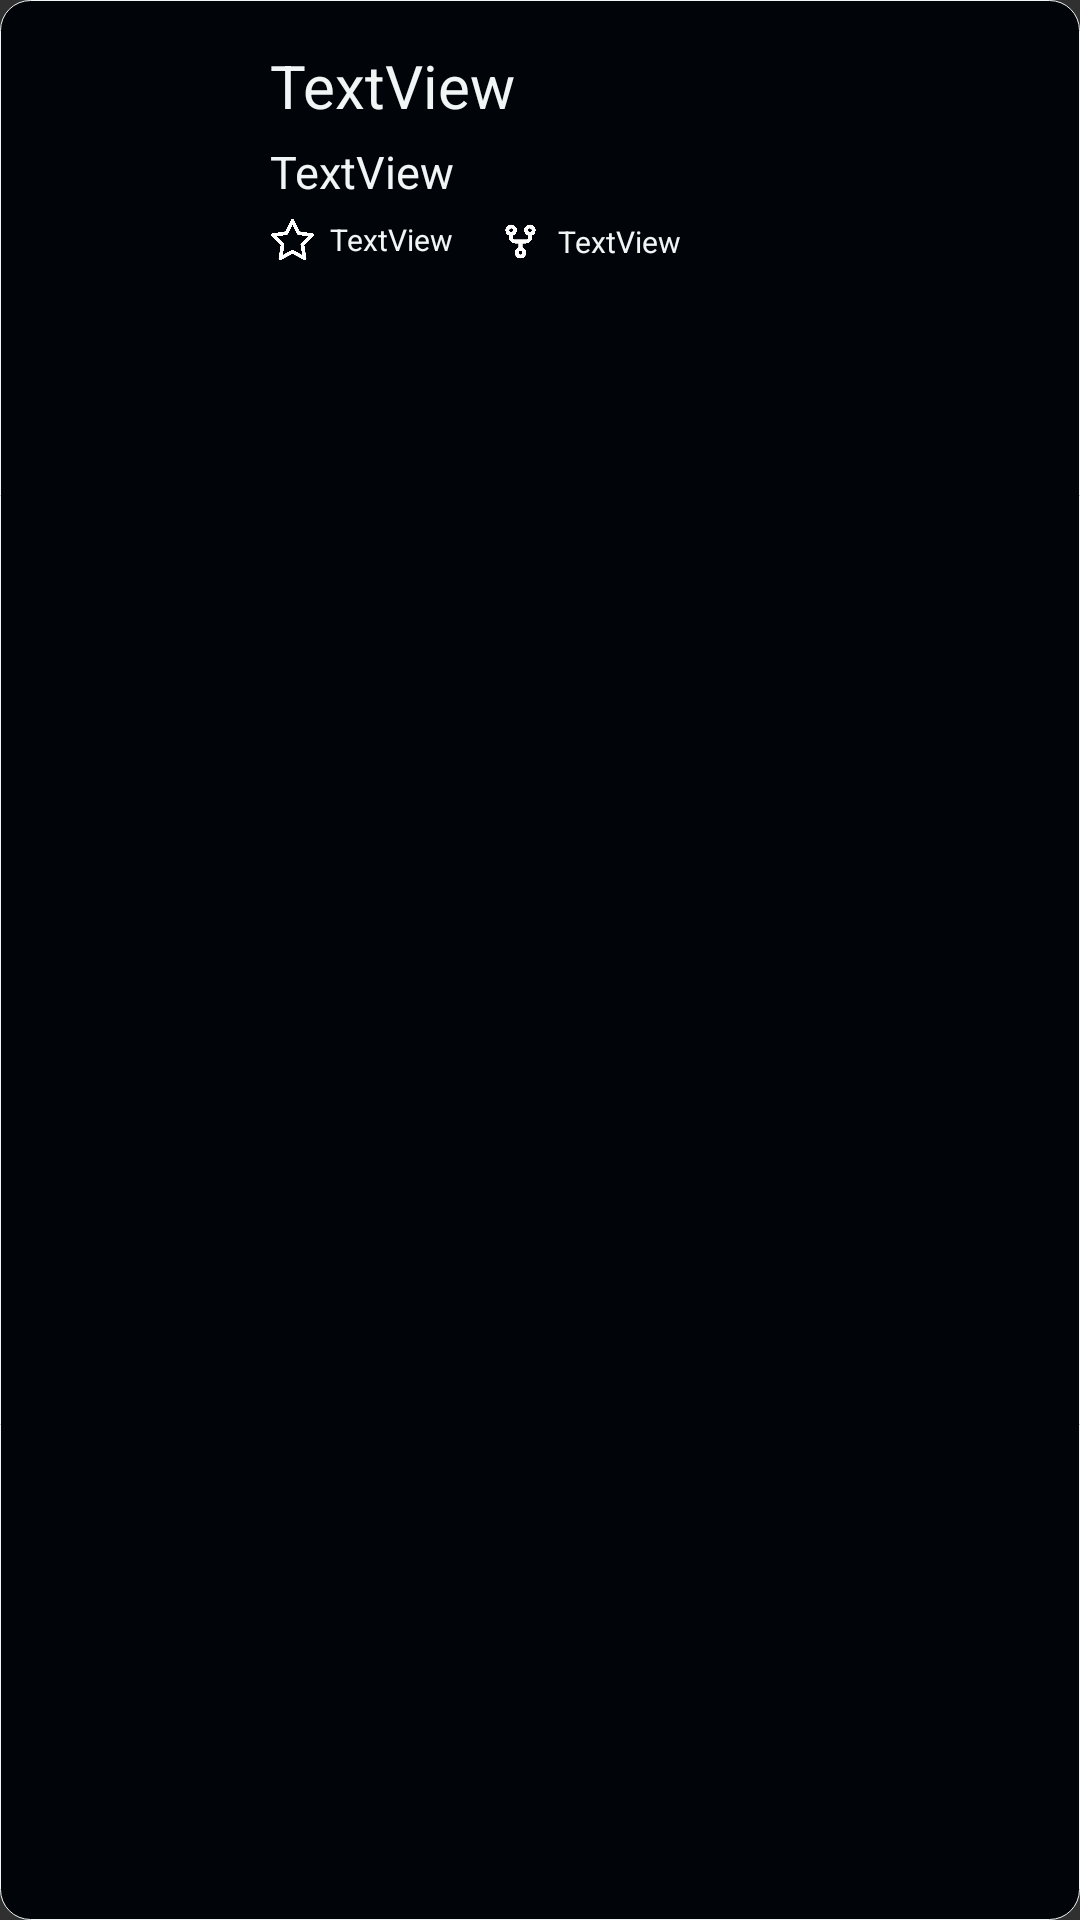

Screen size 1080w x 1920h. Icon name, then its box in pixels as (x1, y1, x2, y2):
fork: (505, 225, 536, 258)
star: (271, 219, 314, 260)
